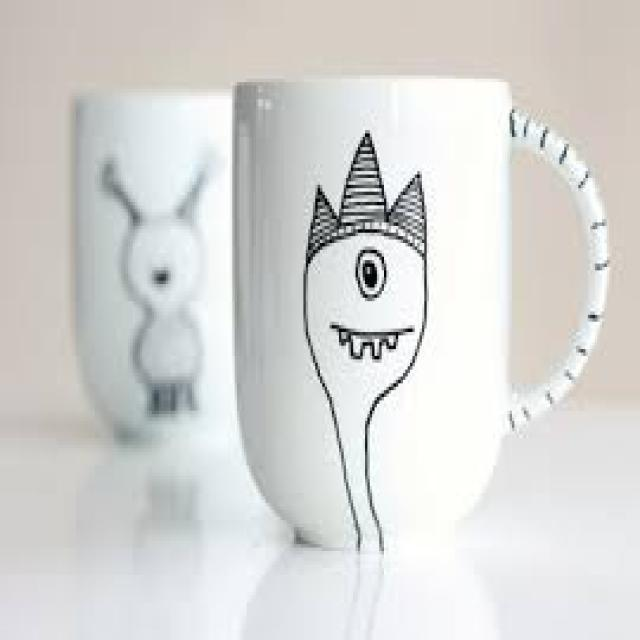taza: (230, 69, 638, 576)
